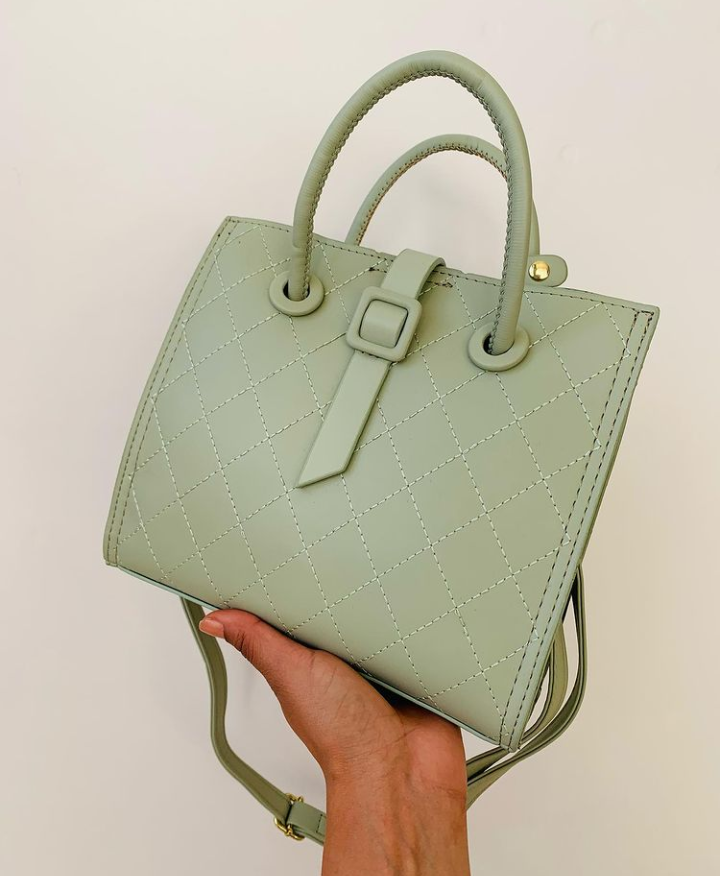cartera: (79, 47, 687, 782)
cuero: (383, 470, 509, 574)
